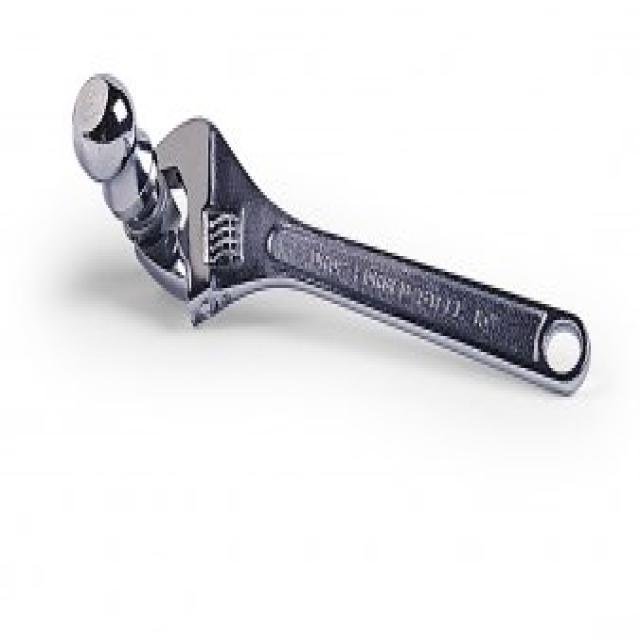wrench: (141, 113, 636, 410)
